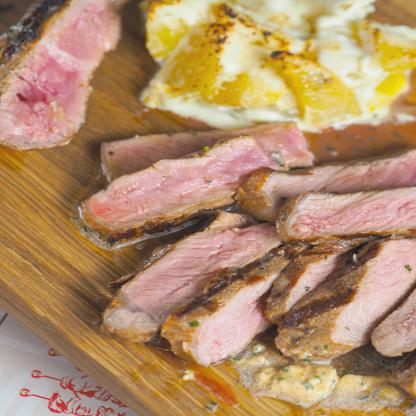Carne: (98, 208, 292, 334), (79, 133, 276, 251), (0, 0, 123, 152), (270, 235, 416, 360), (156, 245, 295, 366), (107, 115, 316, 187), (228, 149, 415, 219), (254, 234, 346, 326), (271, 185, 415, 239)
